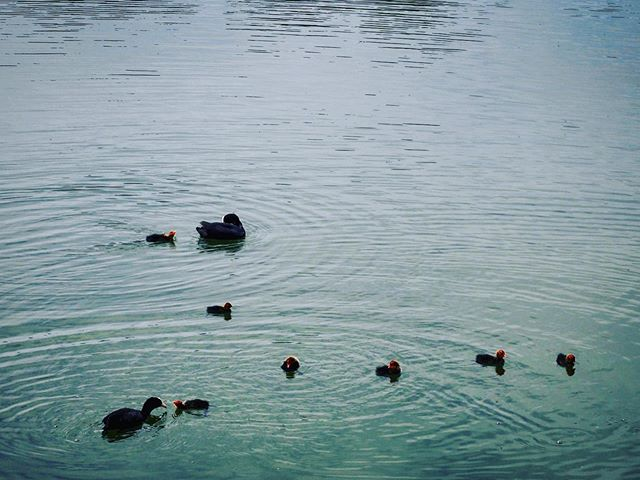animal: (98, 389, 169, 436), (187, 208, 253, 250), (170, 389, 213, 418), (143, 227, 180, 248), (200, 297, 237, 318), (370, 359, 407, 380), (470, 347, 507, 368), (548, 351, 585, 372), (276, 354, 308, 378)
river: (1, 1, 640, 480)
